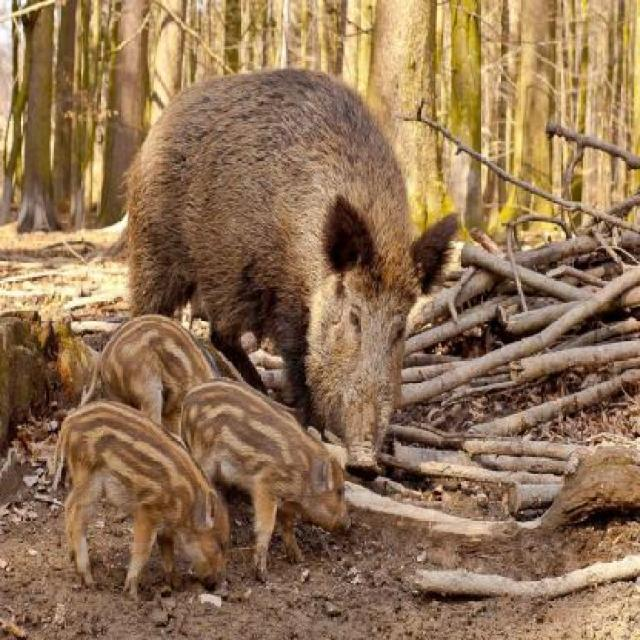wildboar: (120, 58, 465, 505), (168, 368, 363, 582), (41, 403, 234, 597), (74, 310, 240, 487)
